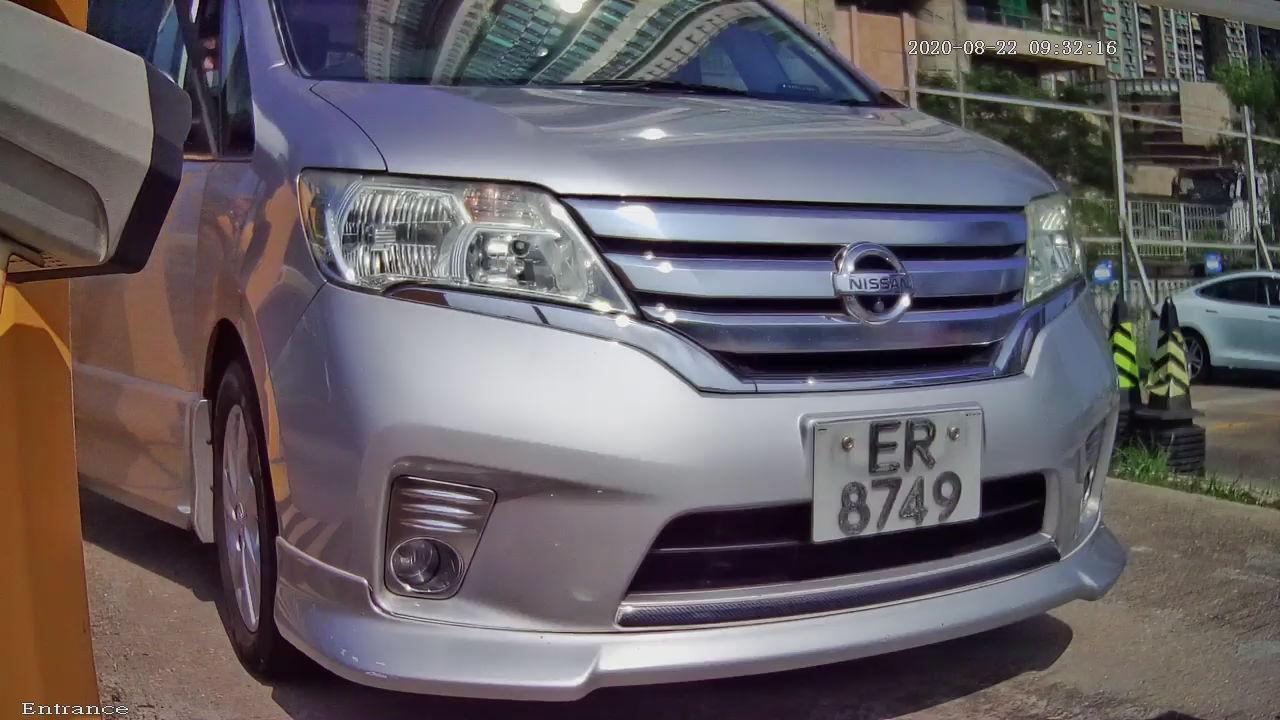License Plate: (795, 389, 995, 553)
